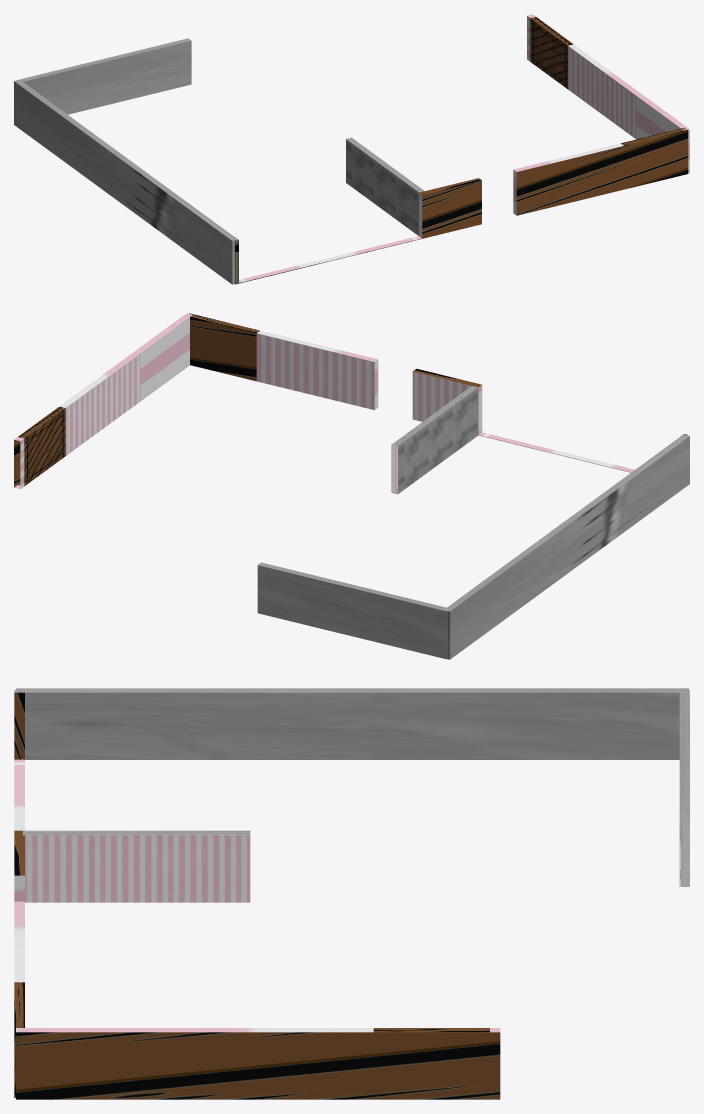
The model's file is Test Tambahan Kedua.fbx.
3 views of the same model, one above another, from view 1: azimuth 30°, elevation 25°; view 2: azimuth 150°, elevation 25°; view 3: azimuth 270°, elevation 25° (orthographic). The views are drawn at different scales.
Parts seen in each view (by area): view 1: Cube.011, Cube.040, Cube.013, Cube.010, Cube.012, Cube.014; view 2: Cube.011, Cube.013, Cube.040, Cube.010, Cube.014, Cube.012; view 3: Cube.011, Cube.010, Cube.014, Cube.012, Cube.013, Cube.040.
Part boxes in pixels (<box>): Cube.011: <box>14,80,238,284</box>; Cube.040: <box>513,127,688,215</box>; Cube.013: <box>16,38,191,114</box>; Cube.010: <box>527,14,689,173</box>; Cube.012: <box>234,178,481,284</box>; Cube.014: <box>346,137,424,235</box>; Cube.011: <box>444,434,689,659</box>; Cube.013: <box>257,562,447,659</box>; Cube.040: <box>189,313,378,410</box>; Cube.010: <box>14,313,192,489</box>; Cube.014: <box>391,386,478,494</box>; Cube.012: <box>412,368,687,472</box>; Cube.011: <box>16,688,688,759</box>; Cube.010: <box>16,1028,500,1099</box>; Cube.014: <box>22,830,250,902</box>; Cube.012: <box>14,690,24,901</box>; Cube.013: <box>679,690,689,886</box>; Cube.040: <box>14,901,24,1097</box>.
Size of the model in its own units: 12527 by 1253 by 10401.
